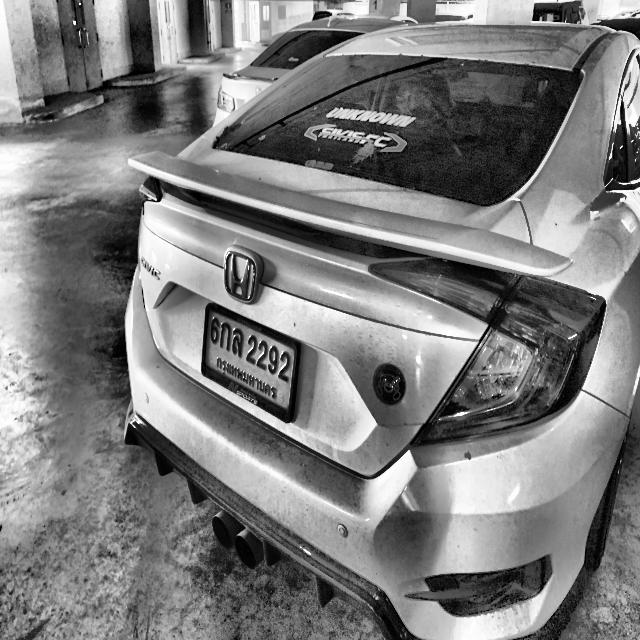license-plate: (201, 297, 303, 423)
